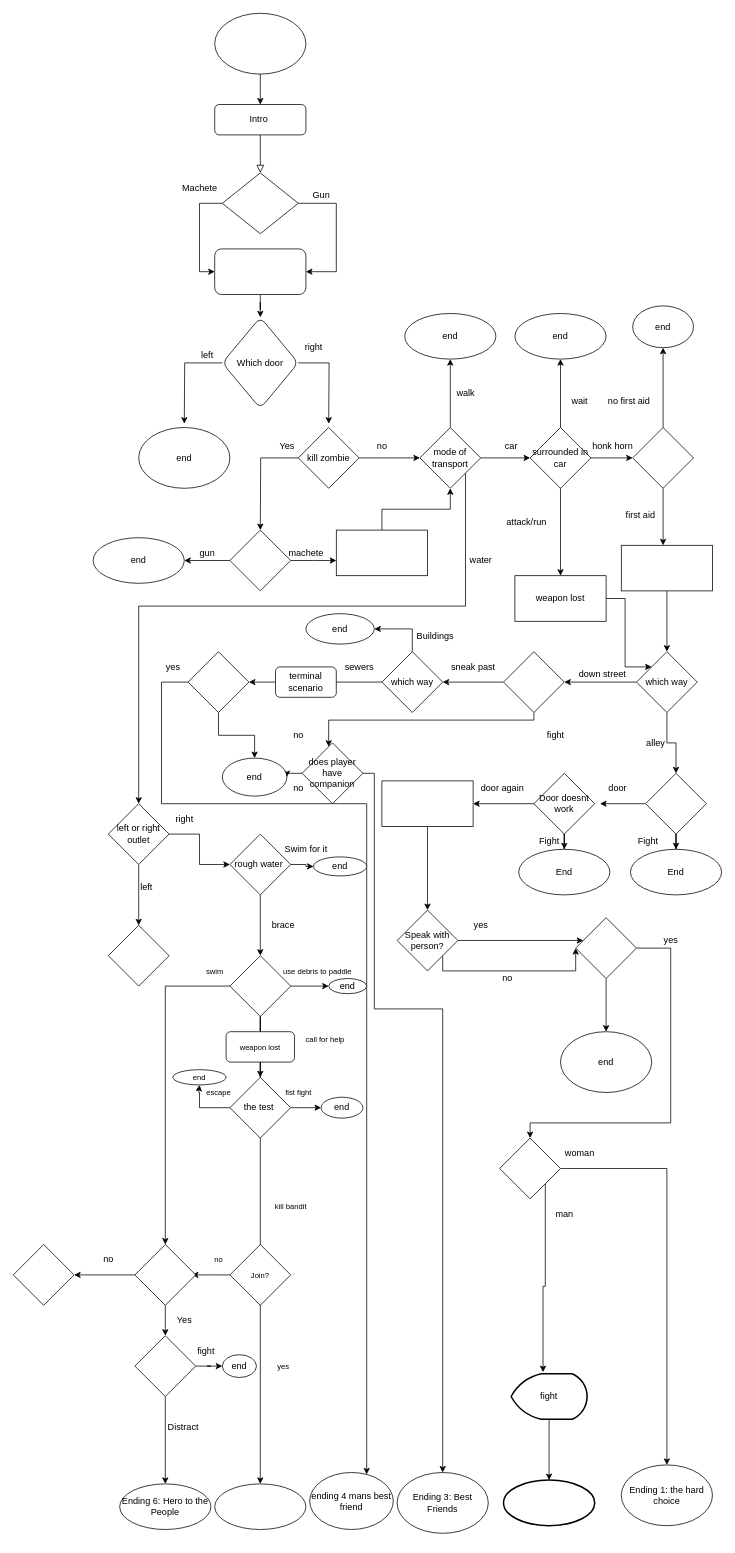
Image size: 735x1553. Some labels were removed from this diagram. Here are the shapes that lost their labels. From the top down, the centre of each, then its label:
the point at 260,43: Start
the point at 260,203: What item to take
the point at 260,271: save option
the point at 663,457: help?
the point at 260,560: What item
the point at 382,552: acquire first aid
the point at 666,568: companion acquired
the point at 218,681: help dog with first aid
the point at 533,681: run into bandit blockade
the point at 427,803: New person:woman
the point at 675,803: zombies incoming
the point at 605,947: does player have weapon
the point at 260,985: What to do about damaged raft
the point at 529,1168: Who to save
the point at 165,1274: Help Community
the point at 165,1365: How to deal with horde
the point at 260,1506: ending 5: Straight up G
the point at 548,1502: Ending 2: survival of the fittest
